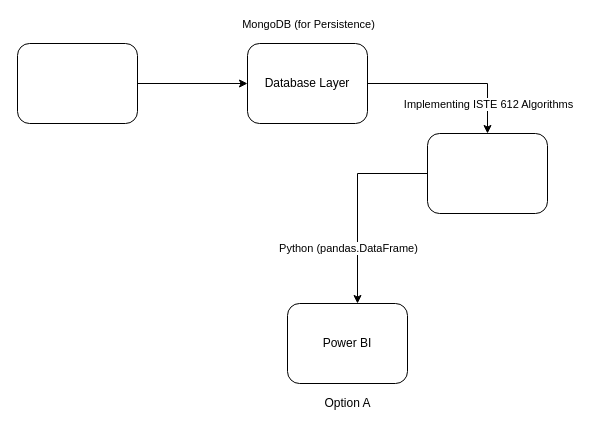
The diagram is 590 pixels wide and 430 high, and some of its shapes have lost their labels. Here are the shapes that lost their labels. From the top down, the box of each, then its label:
(16, 42, 138, 124): Web Scraper
(426, 132, 548, 214): "Algorithm" Layer
